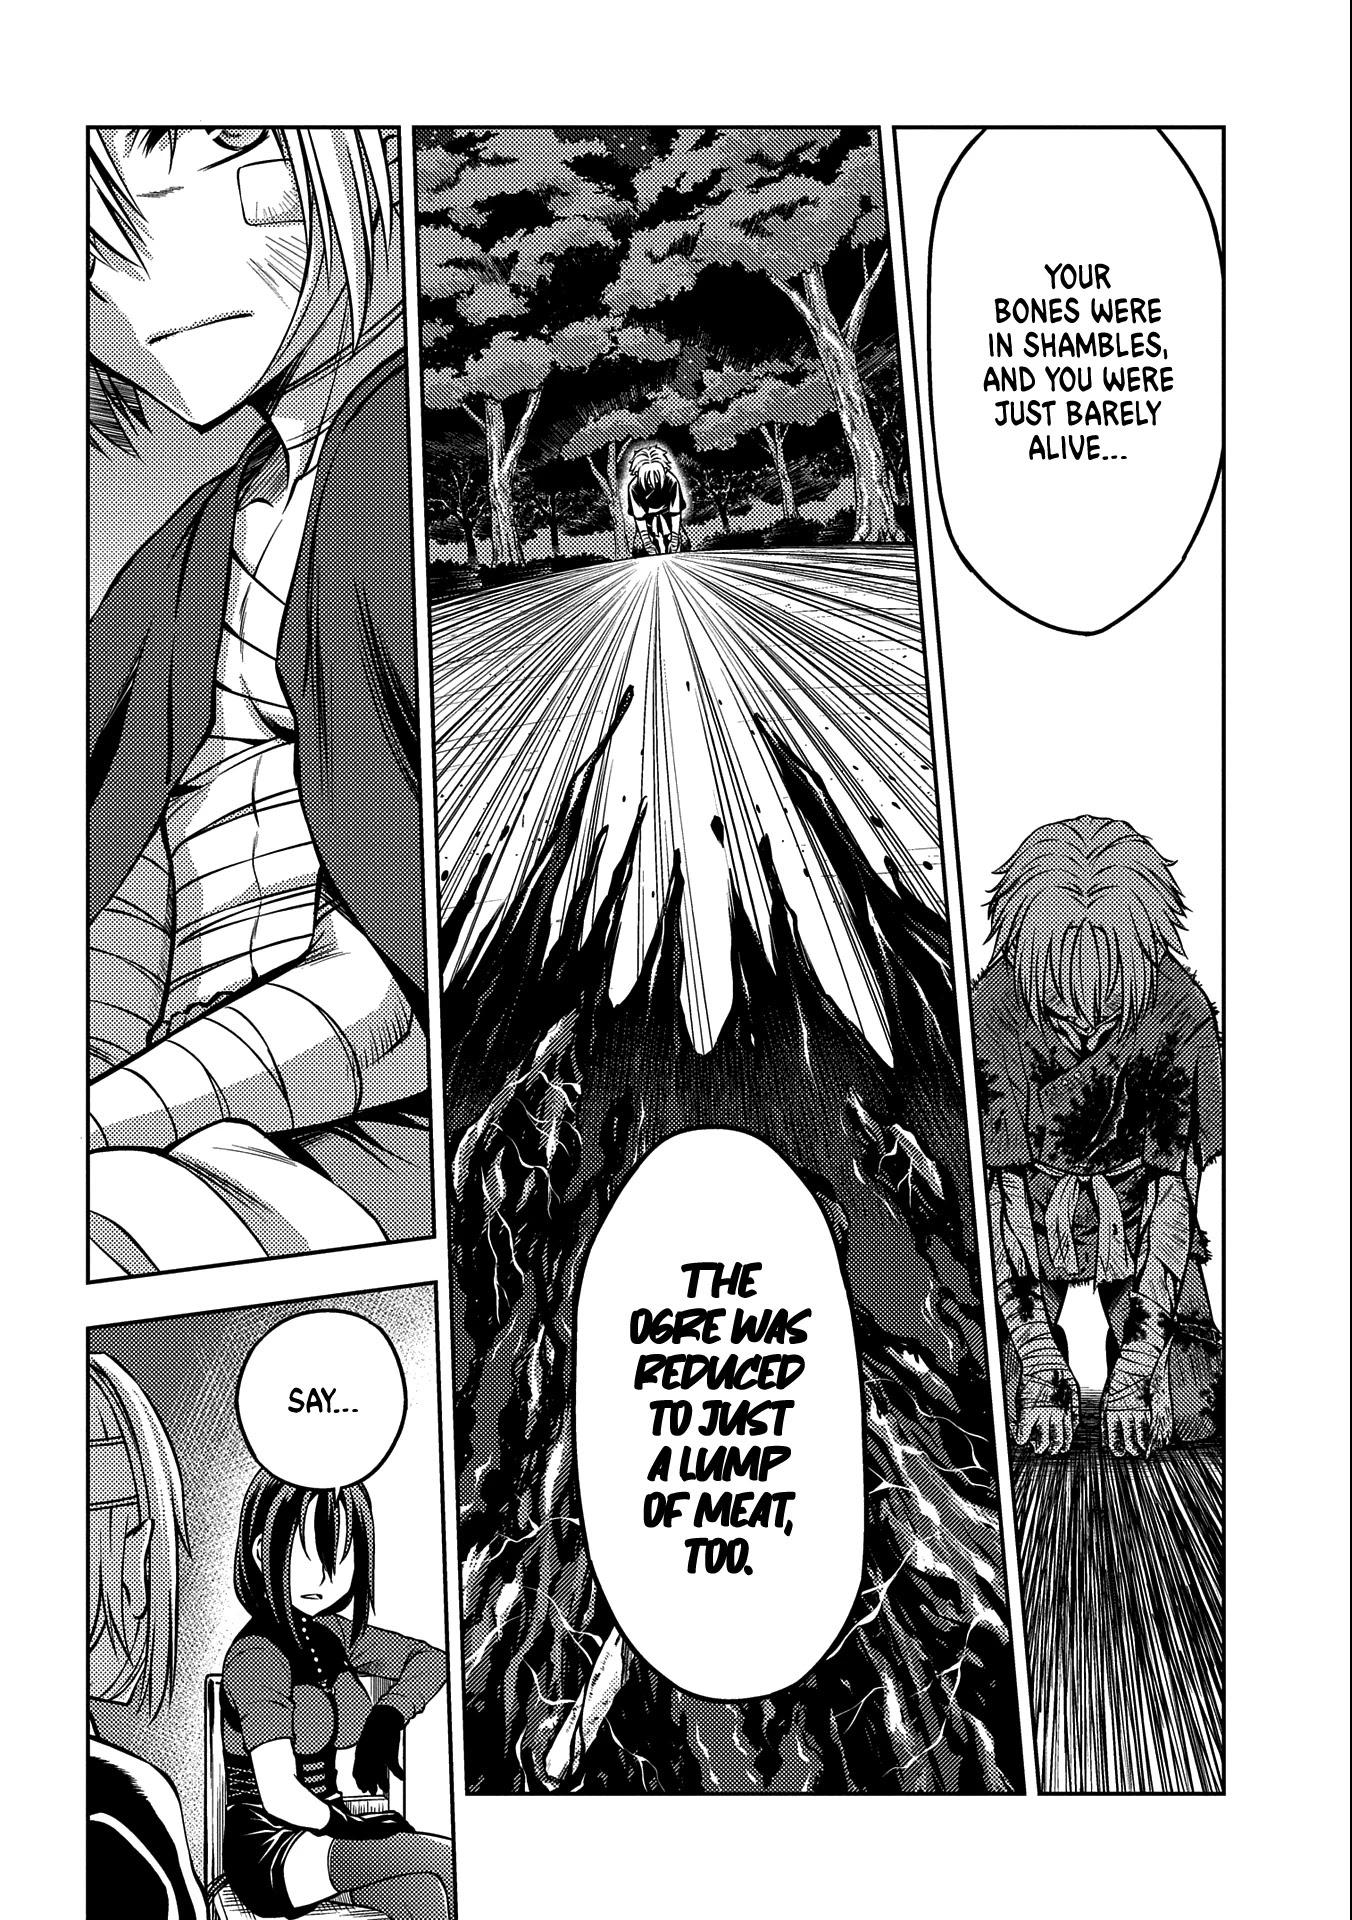Bubble: (568, 1122, 872, 1709), (919, 117, 1233, 645), (234, 1307, 411, 1496)
